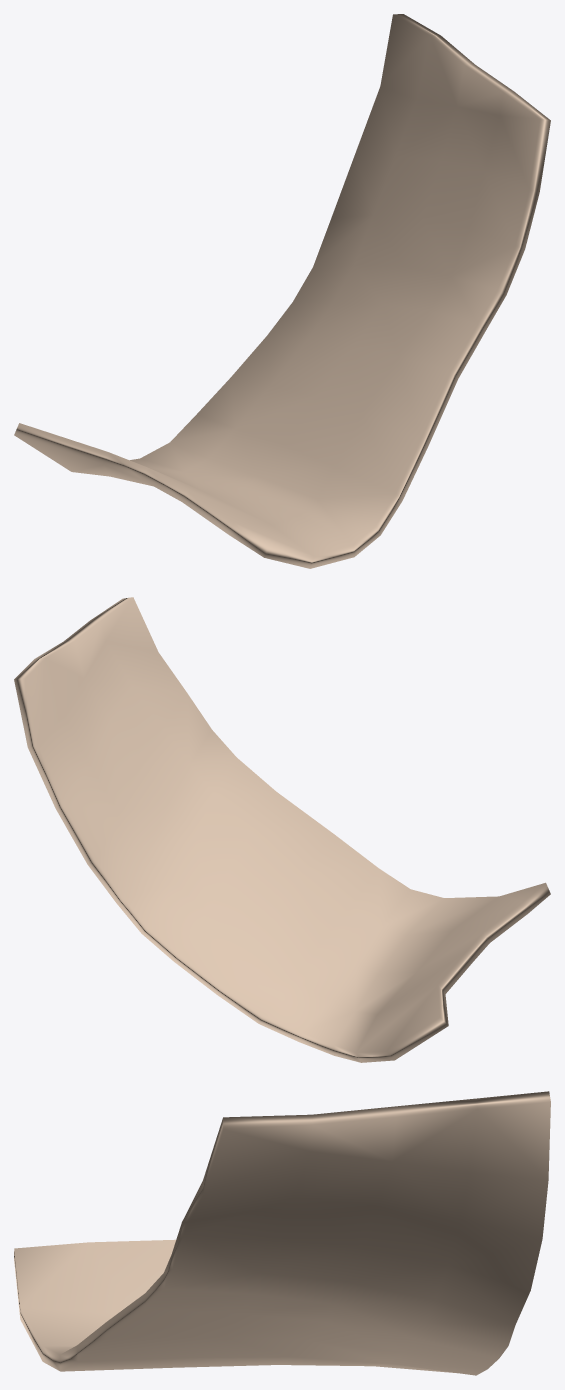
3 renders of one model, top to bottom at view 1: azimuth 30°, elevation 25°; view 2: azimuth 150°, elevation 25°; view 3: azimuth 270°, elevation 25°, orthographic. The views are drawn at different scales.
Parts seen in each view (by area): view 1: 左侧小腿横韧带; view 2: 左侧小腿横韧带; view 3: 左侧小腿横韧带.
Part boxes in pixels (x1,y1,x2,y2): 左侧小腿横韧带: (14, 14, 550, 568); 左侧小腿横韧带: (14, 597, 550, 1062); 左侧小腿横韧带: (14, 1091, 550, 1375).
Size of the model in its own units: 0.055 by 0.0426 by 0.0465.
